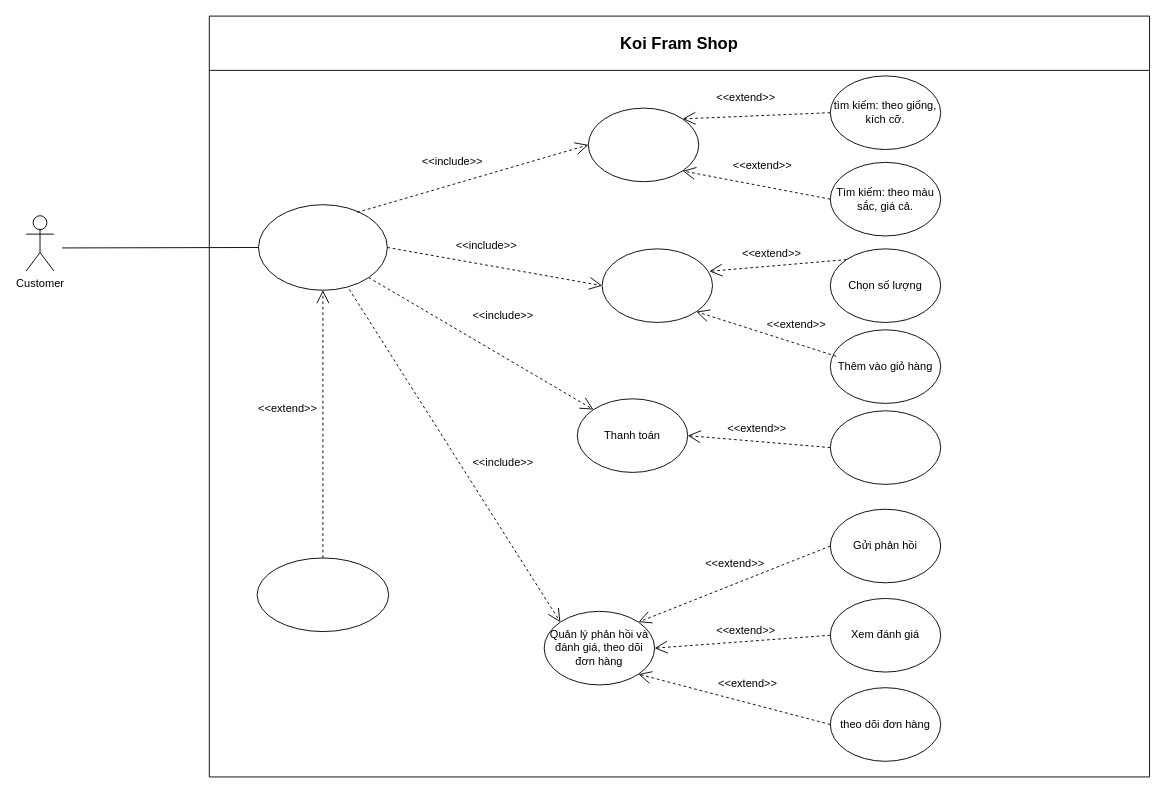
The diagram is 1166 pixels wide and 793 high, and some of its shapes have lost their labels. Here are the shapes that lost their labels. From the top down, the box of each, then its label:
(587, 107, 699, 182): Tìm kiếm cá koi
(258, 204, 387, 290): Đăng nhập
(601, 248, 713, 322): Giỏ hàng
(829, 410, 941, 484): Chọn hình thức thanh toán
(256, 557, 389, 632): Đổi mật khẩu
